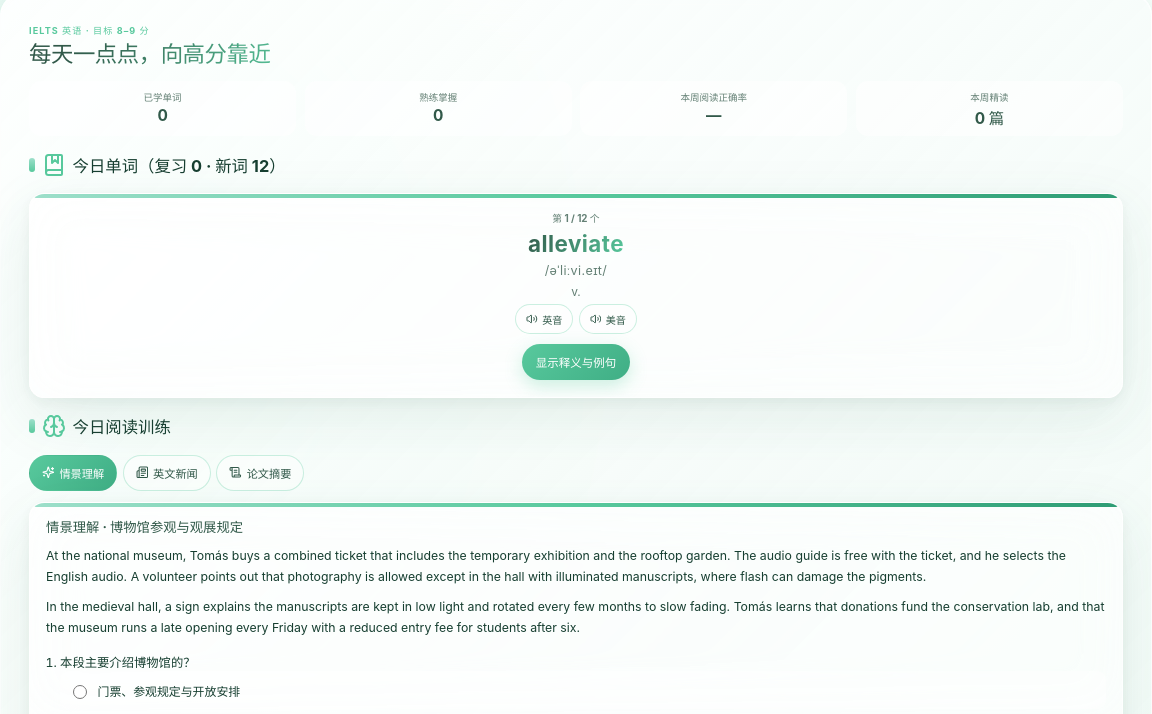
Test case: EnglishPage › submits reading answers and reveals explanations
Click the radio button at [80, 692], box [74,685,88,699]
(page scrolled)
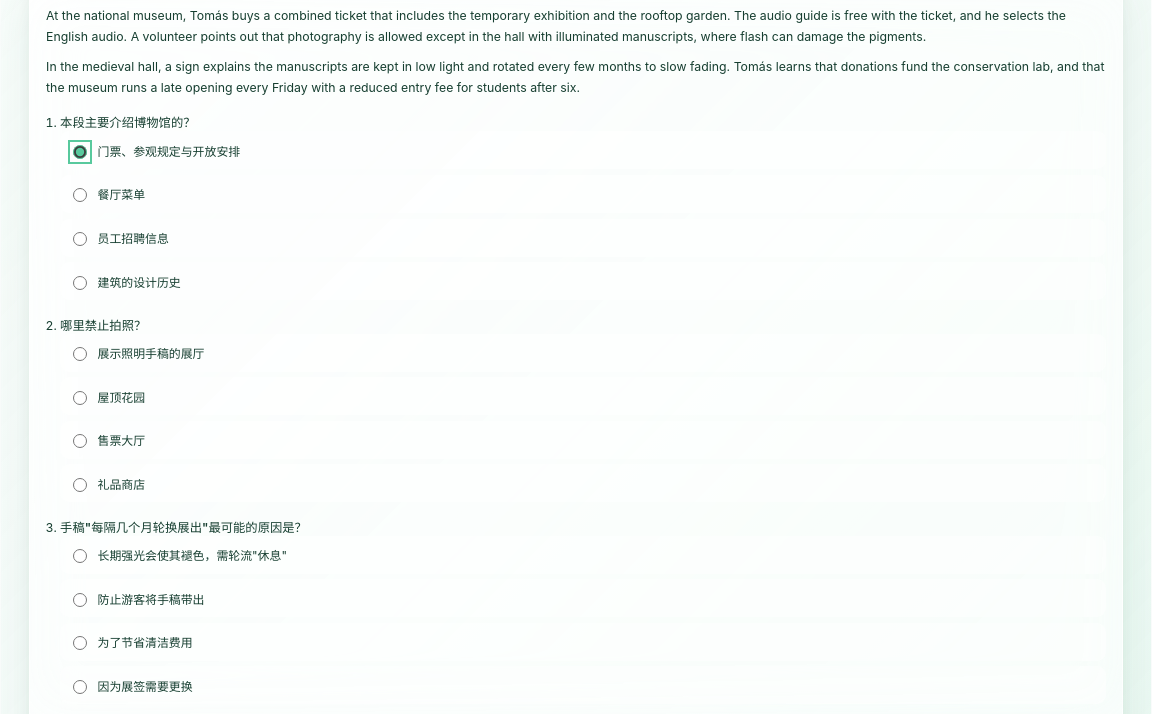
Click the radio button labelled "展示照明手稿的展厅" at [80, 354], box [74,347,88,361]
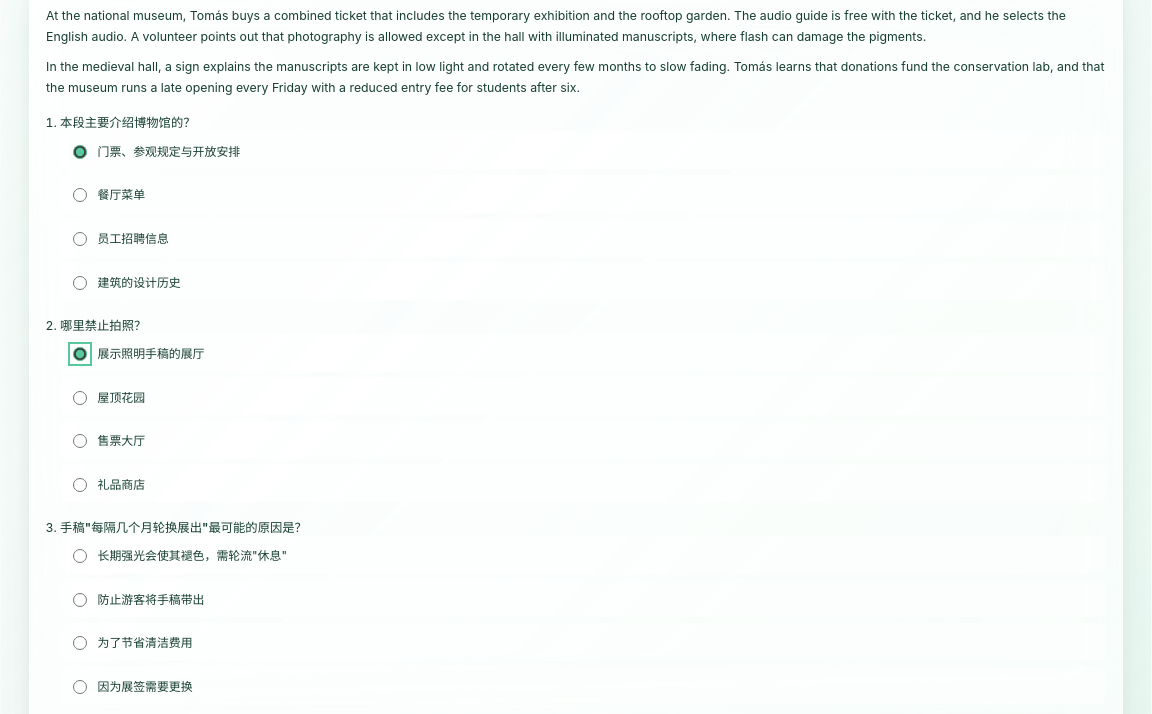
Click the radio button labelled "长期强光会使其褪色，需轮流\"休息\"" at [80, 556], box [74,549,88,563]
(page scrolled)
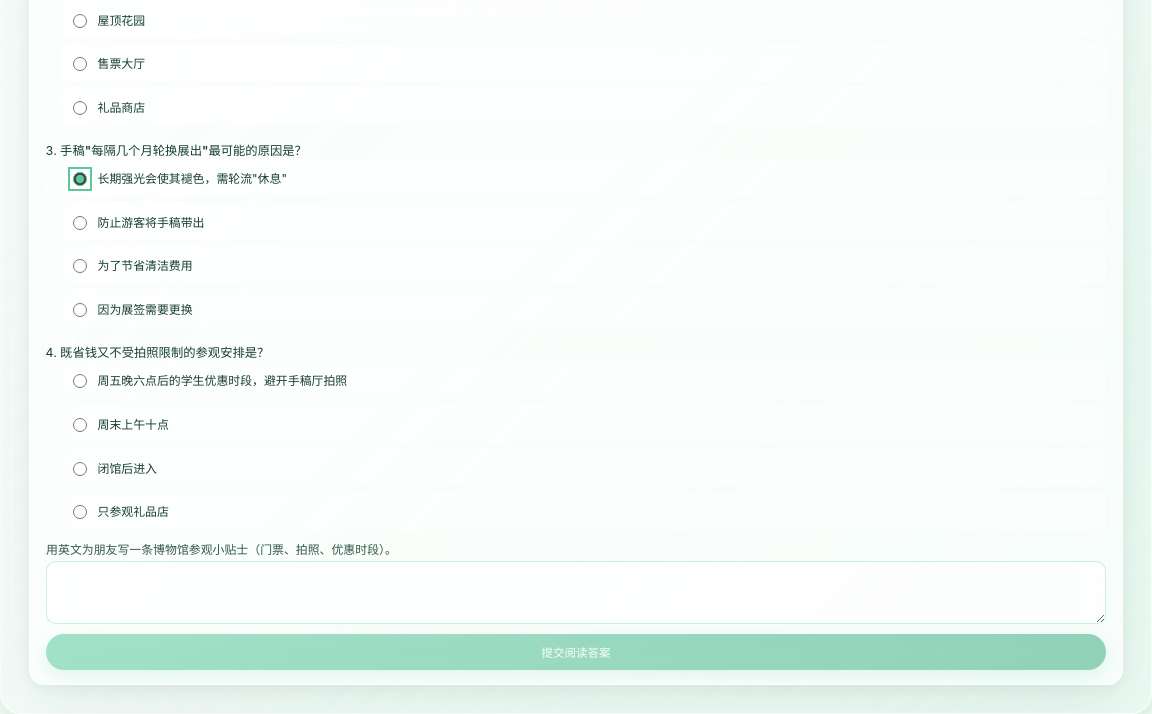
Click the radio button labelled "周五晚六点后的学生优惠时段，避开手稿厅拍照" at [80, 381], box [74,374,88,388]
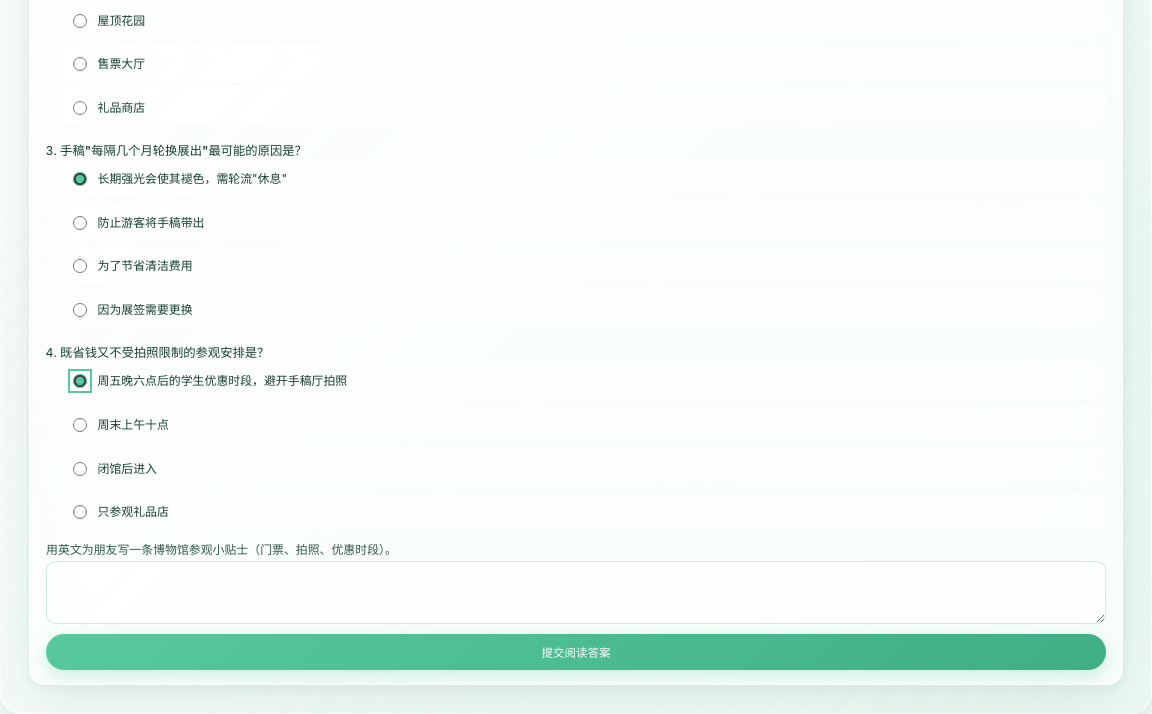
Click the button "提交阅读答案" at [576, 652], box [46,634,1106,670]
(page scrolled)
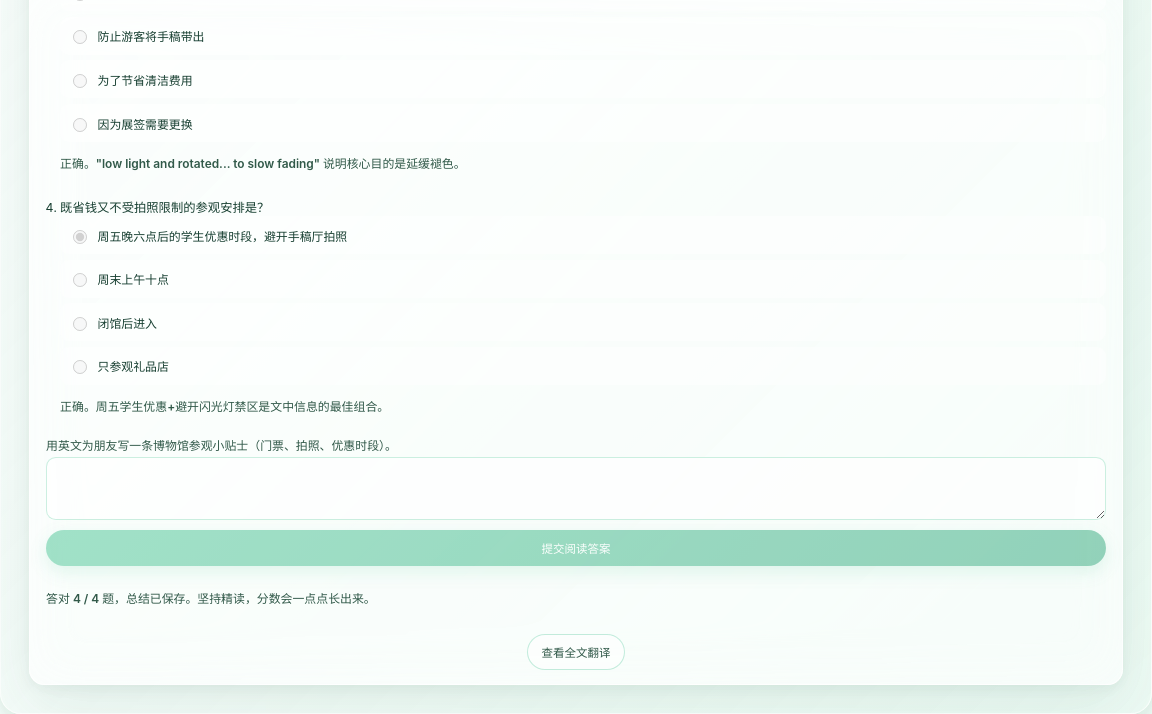
Expected: the text "答对 4 / 4 题，总结已保存。坚持精读，分数会一点点长出来。" is shown, [46,591,376,606]
